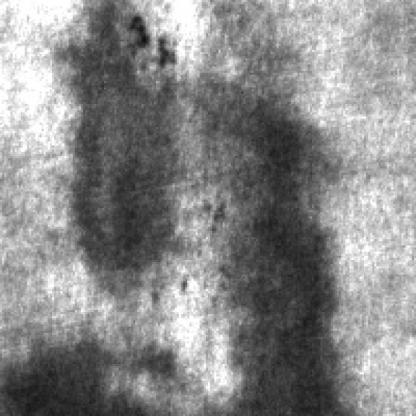patches: (222, 95, 349, 416), (79, 15, 179, 283), (2, 347, 173, 416)
